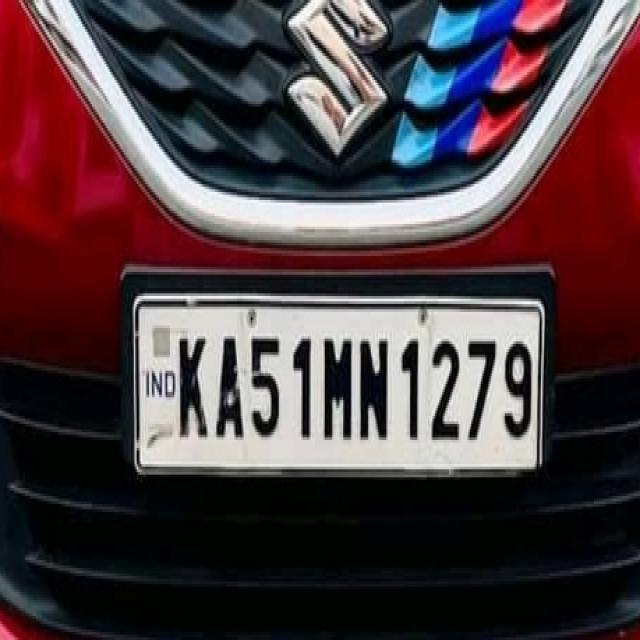1: (288, 326, 314, 446), (398, 326, 424, 442)
5: (247, 325, 284, 448)
7: (466, 324, 500, 446)
9: (502, 327, 535, 447)
A: (212, 322, 247, 446)
K: (172, 325, 210, 448)
M: (322, 328, 356, 444)
N: (354, 329, 393, 446)
